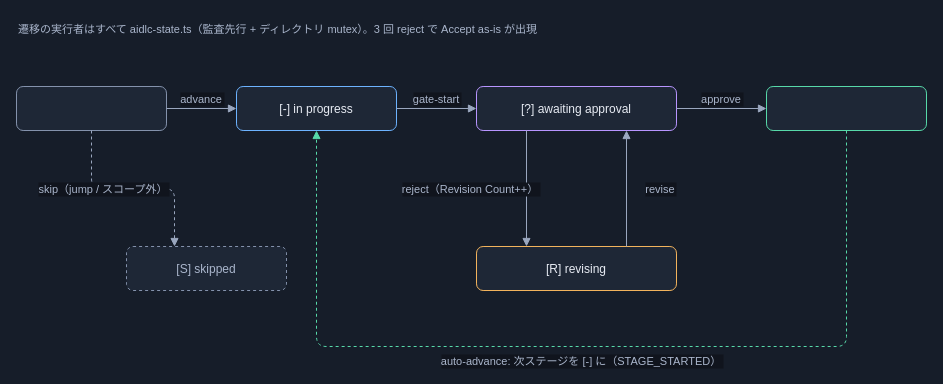
Image size: 943x384. Some labels were removed from this diagram. Each missing label, with the centre of its shape:
[ ] pending: pixel 91 108
[x] completed: pixel 846 108
